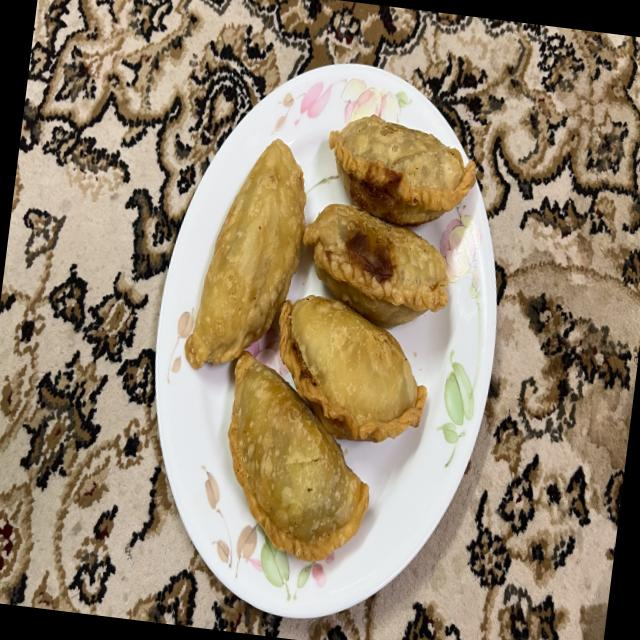karipap: (228, 353, 368, 561), (184, 140, 306, 368), (278, 294, 426, 442), (303, 205, 448, 328), (328, 114, 475, 226)
